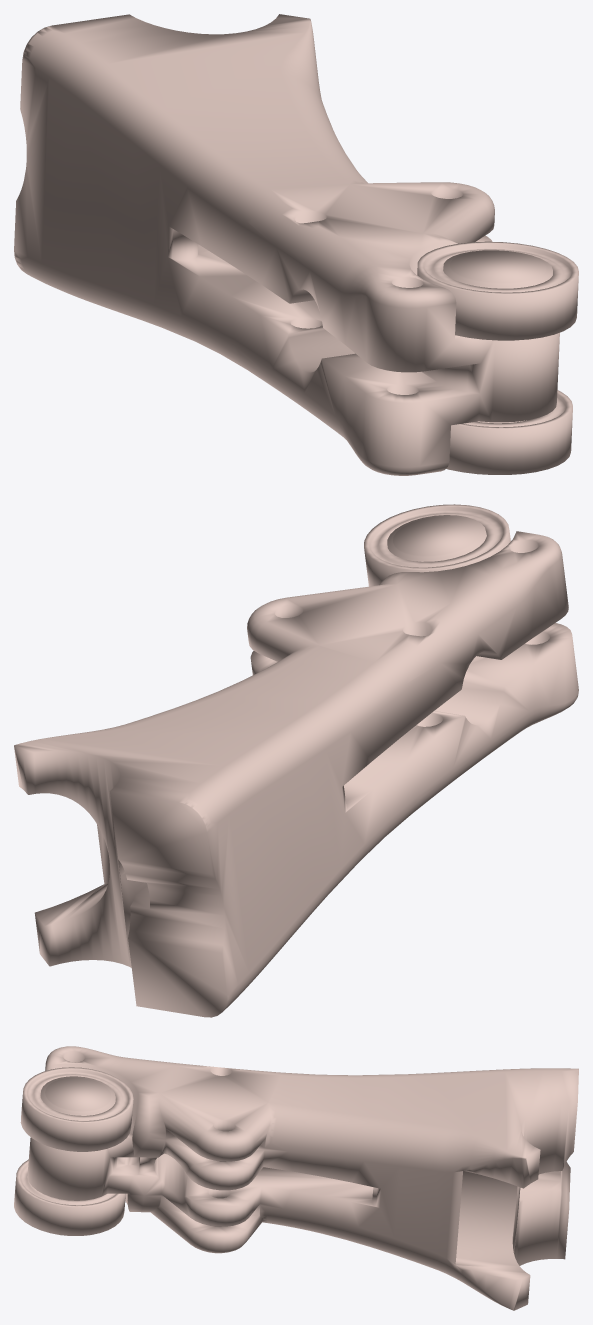
Rendered from index_plp_1.obj.
3 renders of one model, top to bottom at view 1: azimuth 30°, elevation 25°; view 2: azimuth 150°, elevation 25°; view 3: azimuth 270°, elevation 25°, orthographic. The views are drawn at different scales.
Size of the model in its own units: 20.1 by 18.45 by 50.96.
